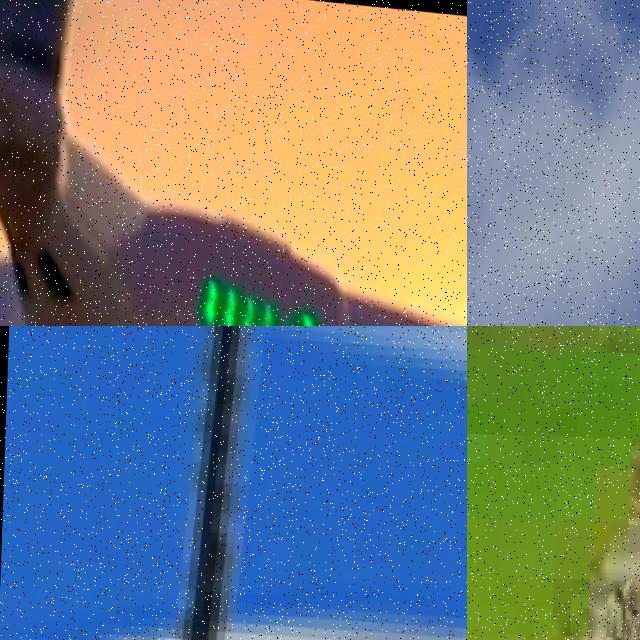drone: (0, 0, 467, 326), (0, 326, 467, 640)
